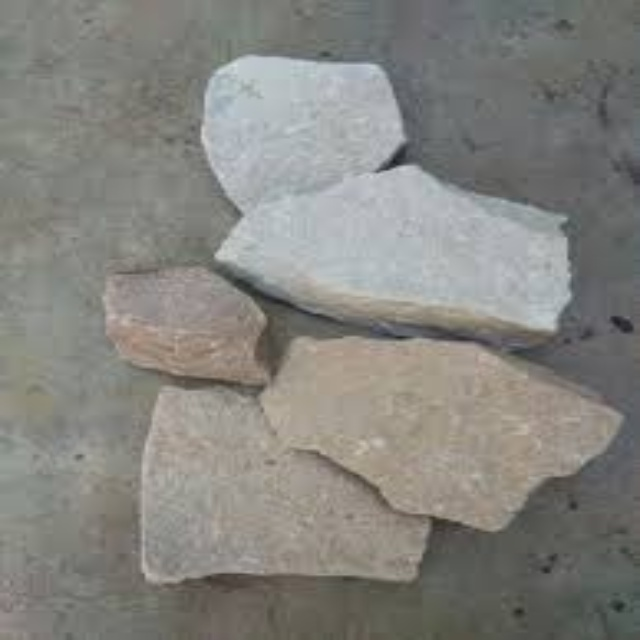obstacle: (205, 54, 567, 343)
